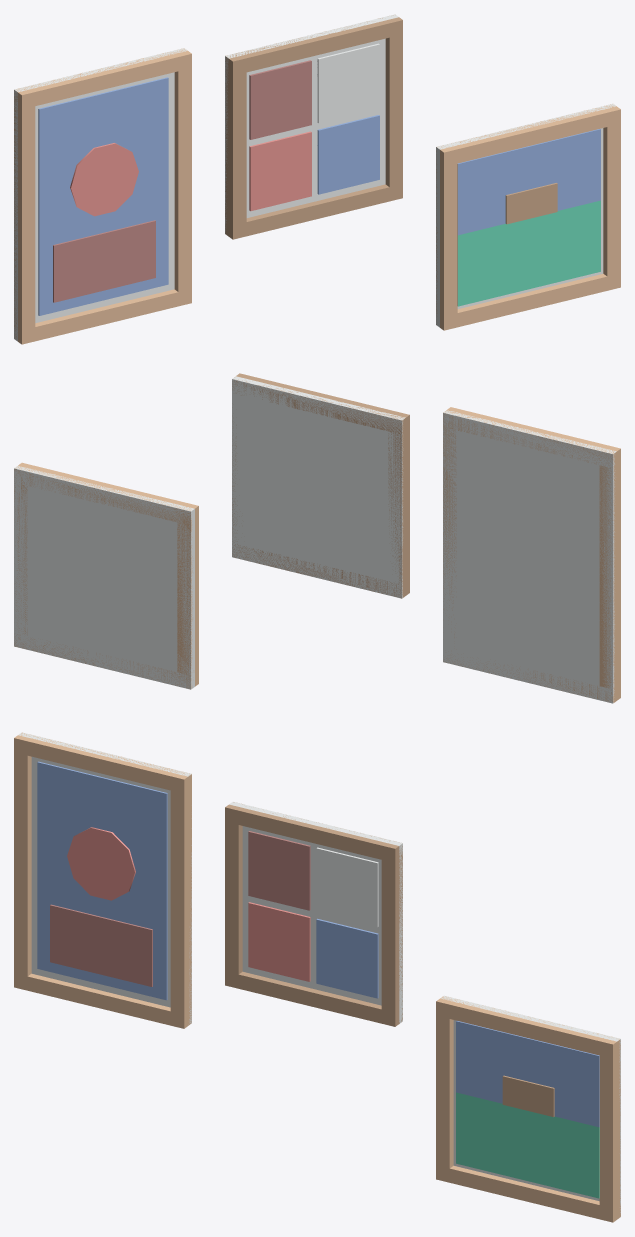
File: pictureGallery.glb
3 renders of one model, top to bottom at view 1: azimuth 30°, elevation 25°; view 2: azimuth 150°, elevation 25°; view 3: azimuth 330°, elevation 25°, orthographic.
Parts seen in each view (by area): view 1: pictureGallery; view 2: pictureGallery; view 3: pictureGallery.
Part boxes in pixels (bbox=[...]): pictureGallery: bbox=[14, 14, 620, 344]; pictureGallery: bbox=[14, 373, 620, 703]; pictureGallery: bbox=[14, 732, 620, 1222].
Size of the model in its own units: 0.88 by 0.475 by 0.02.
